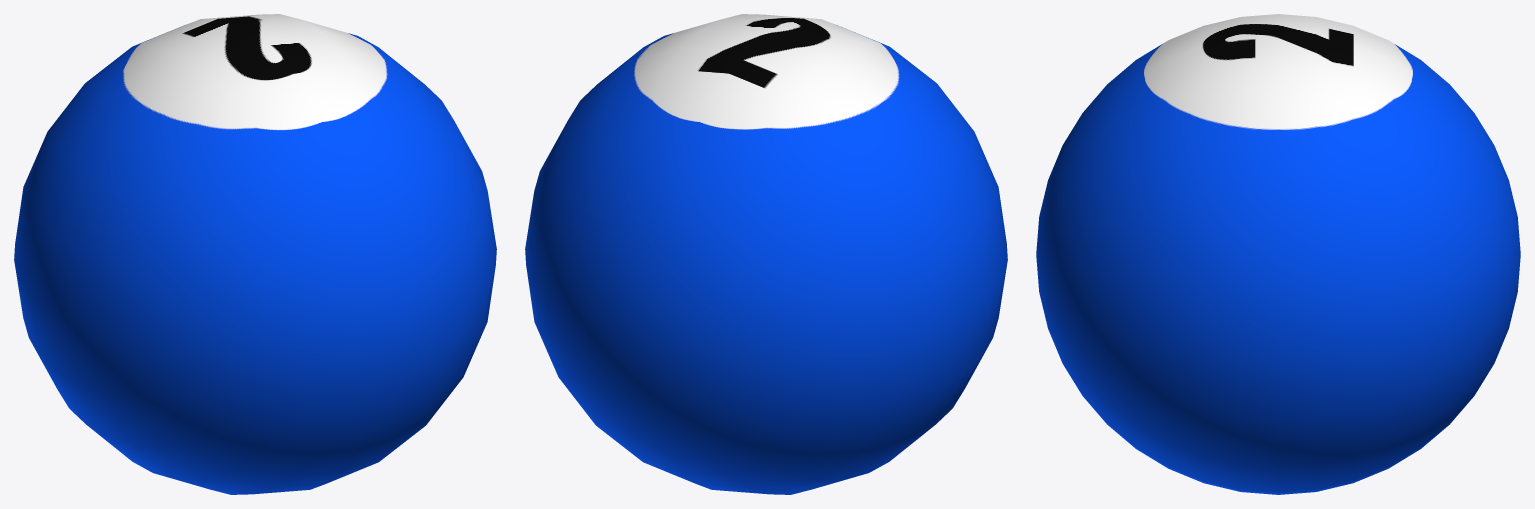
Rendered from ball2.fbx.
The picture shows the model from 3 angles, left to right: view 1: azimuth 30°, elevation 25°; view 2: azimuth 150°, elevation 25°; view 3: azimuth 270°, elevation 25°; orthographic projection.
Parts seen in each view (by area): view 1: pSphere1; view 2: pSphere1; view 3: pSphere1.
Boxes of the visible parts, x1=… form: pSphere1: x1=14, y1=14, x2=496, y2=494; pSphere1: x1=525, y1=14, x2=1007, y2=494; pSphere1: x1=1036, y1=14, x2=1520, y2=494.
Bounding box in the file's own units: 2 × 2 × 2.
